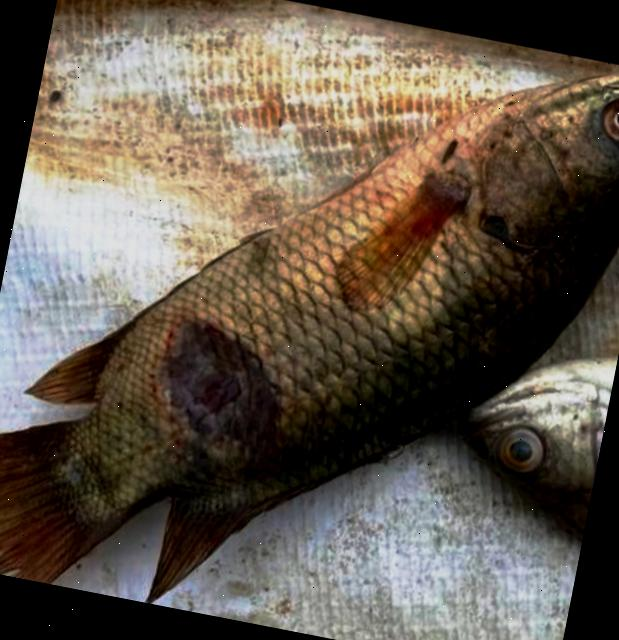Columnaris Disease: (0, 74, 619, 603)
